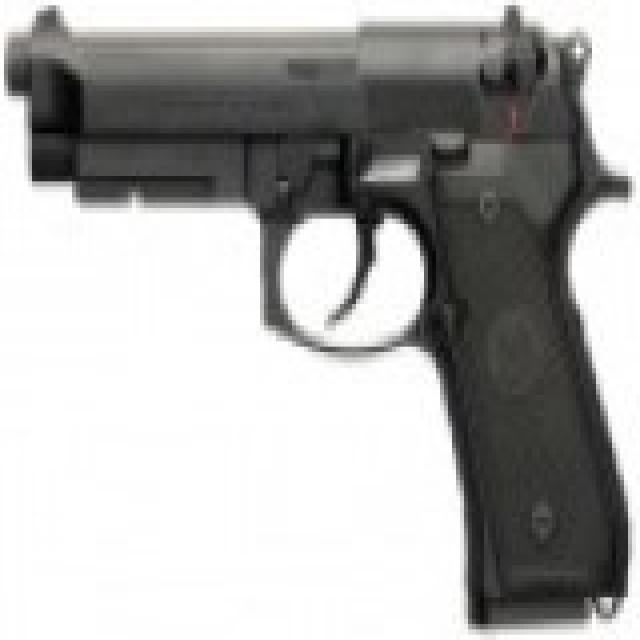gun: (4, 0, 620, 613)
